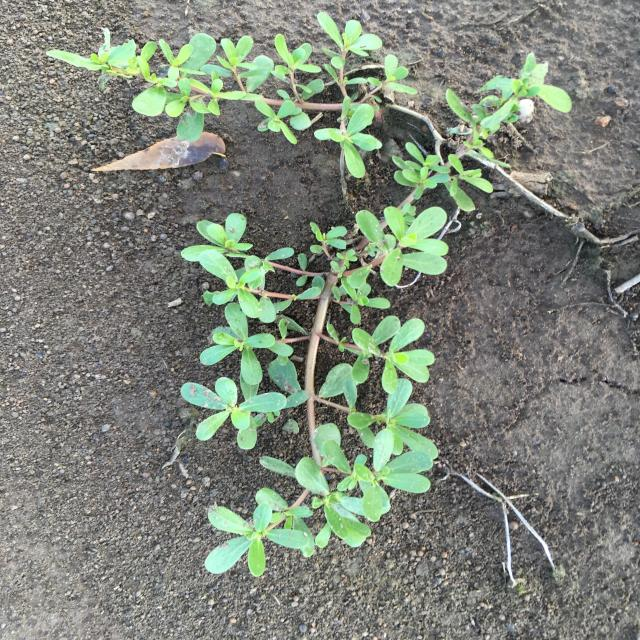Purslane: (180, 52, 572, 576), (45, 12, 418, 178)
